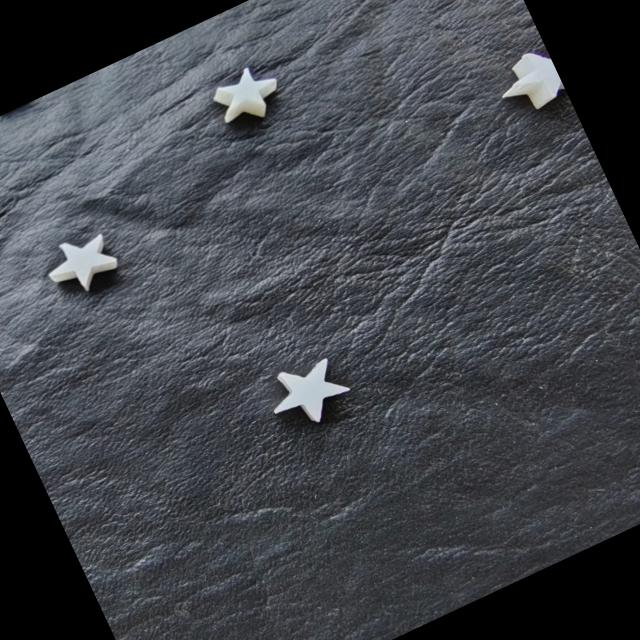estrellas: (275, 359, 351, 421), (50, 234, 116, 285), (218, 68, 276, 112)
